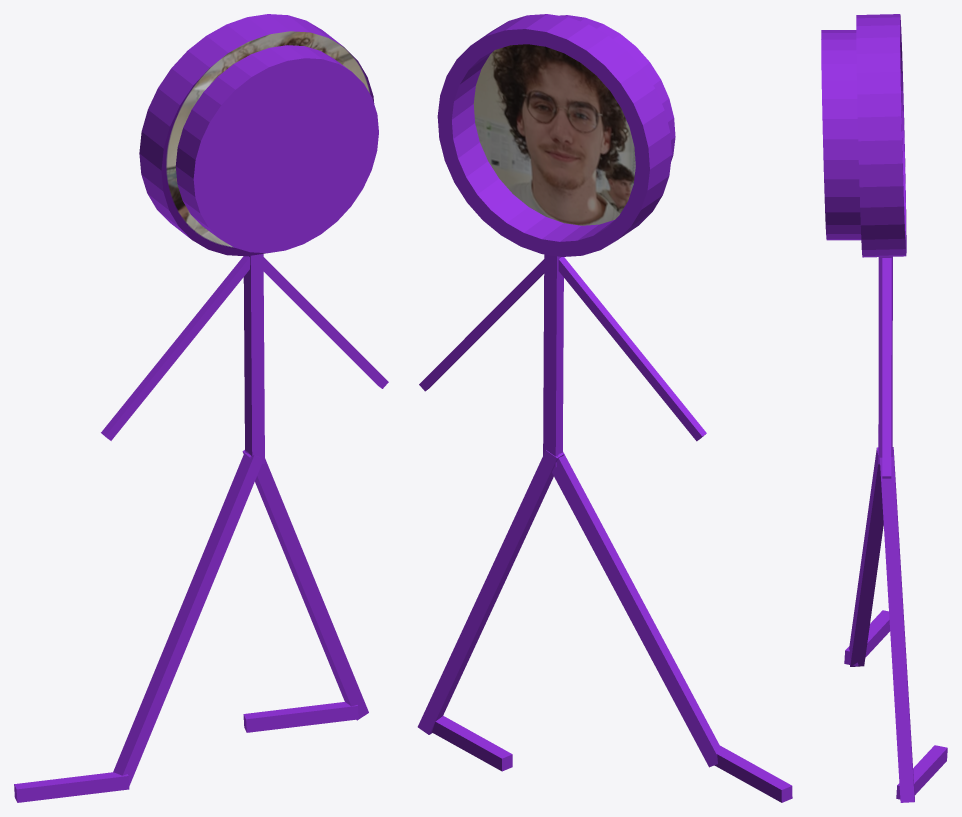
File: Igor.glb
3 views of the same model, side by side, from view 1: azimuth 30°, elevation 25°; view 2: azimuth 150°, elevation 25°; view 3: azimuth 270°, elevation 25° (orthographic).
Parts seen in each view (by area): view 1: Cylinder; view 2: Cylinder; view 3: Cylinder.
Boxes of the visible parts, x1=… form: Cylinder: x1=14, y1=14, x2=388, y2=802; Cylinder: x1=417, y1=14, x2=792, y2=802; Cylinder: x1=821, y1=14, x2=947, y2=802.
Bounding box in the file's own units: 5.37 × 10.11 × 1.6.
2 materials, 1 textured.
